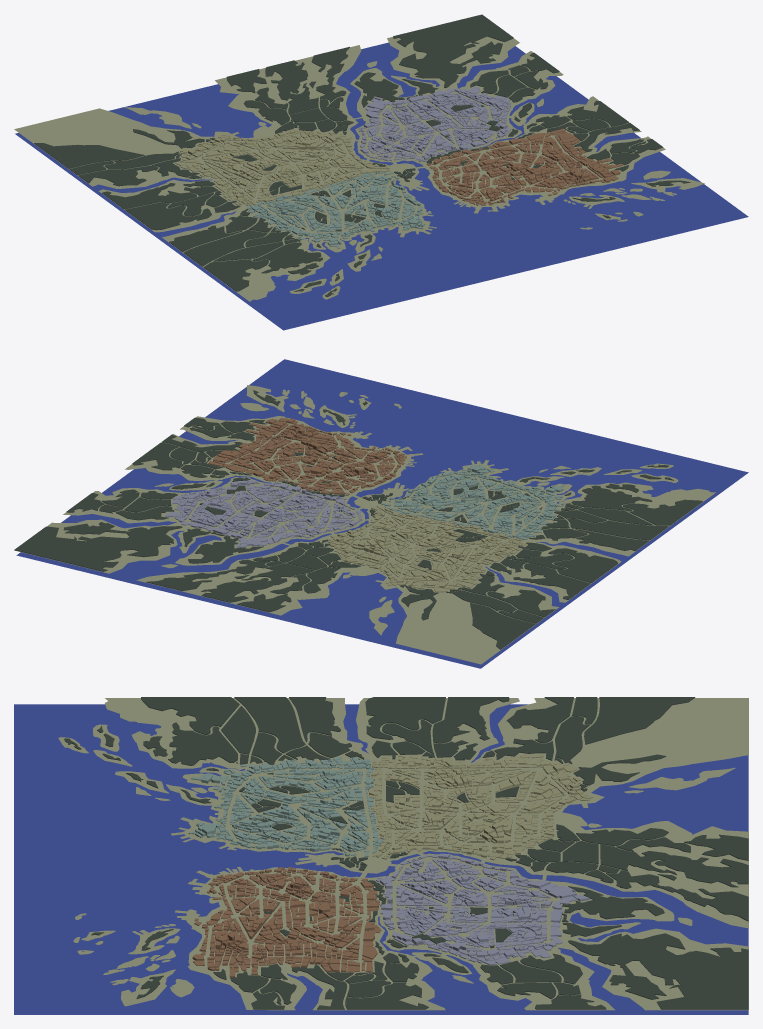
Rendered from board.glb.
The picture shows the model from 3 angles, top to bottom: view 1: azimuth 30°, elevation 25°; view 2: azimuth 150°, elevation 25°; view 3: azimuth 270°, elevation 25°; orthographic projection. The views are drawn at different scales.
Parts seen in each view (by area): view 1: geo_land_mass; view 2: geo_land_mass; view 3: geo_land_mass.
Part boxes in pixels (box(x1,y1,x2,y2)): geo_land_mass: box(14, 14, 748, 330); geo_land_mass: box(14, 359, 748, 668); geo_land_mass: box(14, 697, 748, 1014).
Bounding box in the file's own units: 141 × 3.08 × 141.
7 materials, 7 textured.
